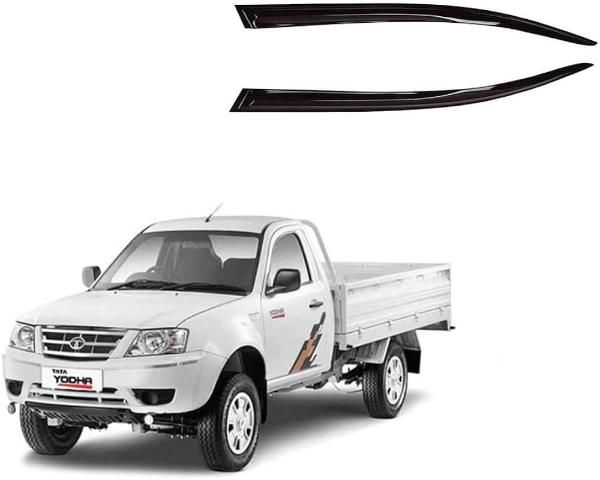pickup-truck: (2, 211, 457, 471)
